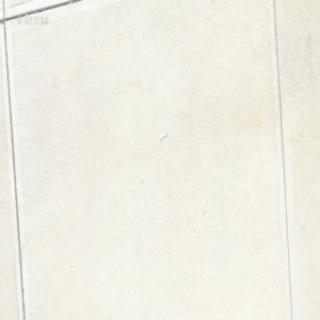Wrenchtrack_idkeyframe: (158, 130, 166, 141)
